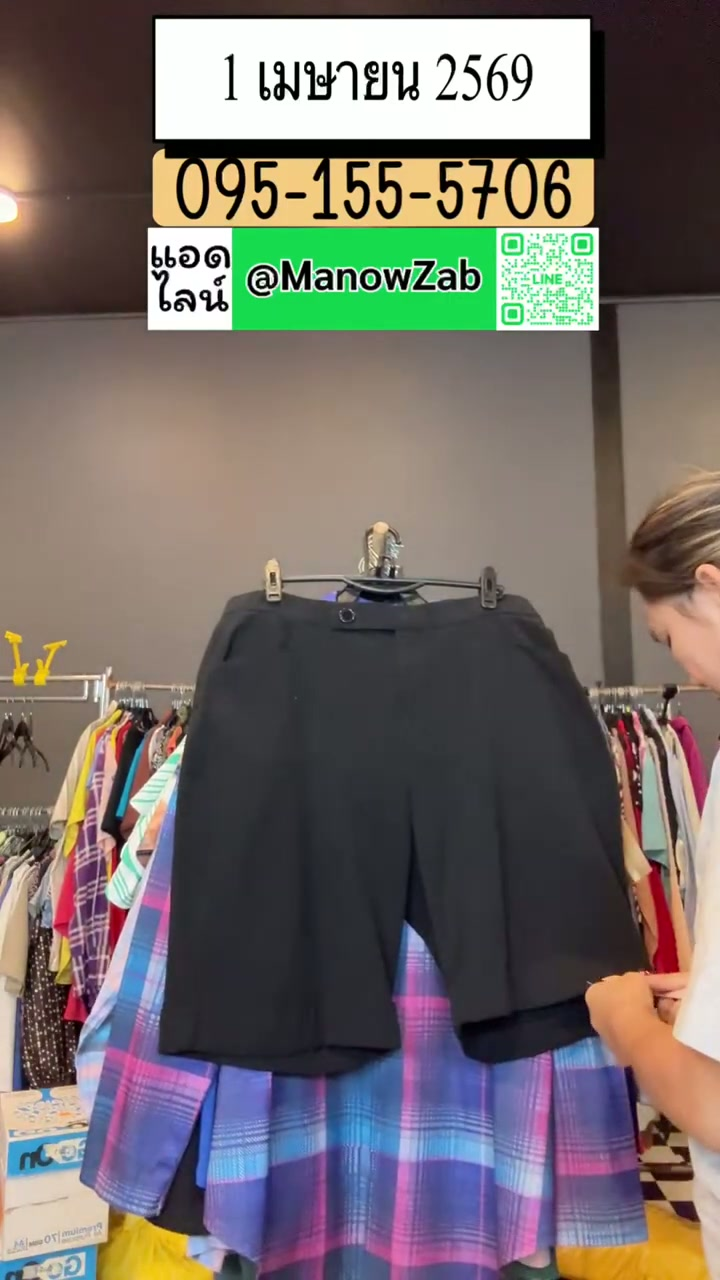display_shirt: (159, 587, 644, 1076), (159, 587, 642, 1076)
